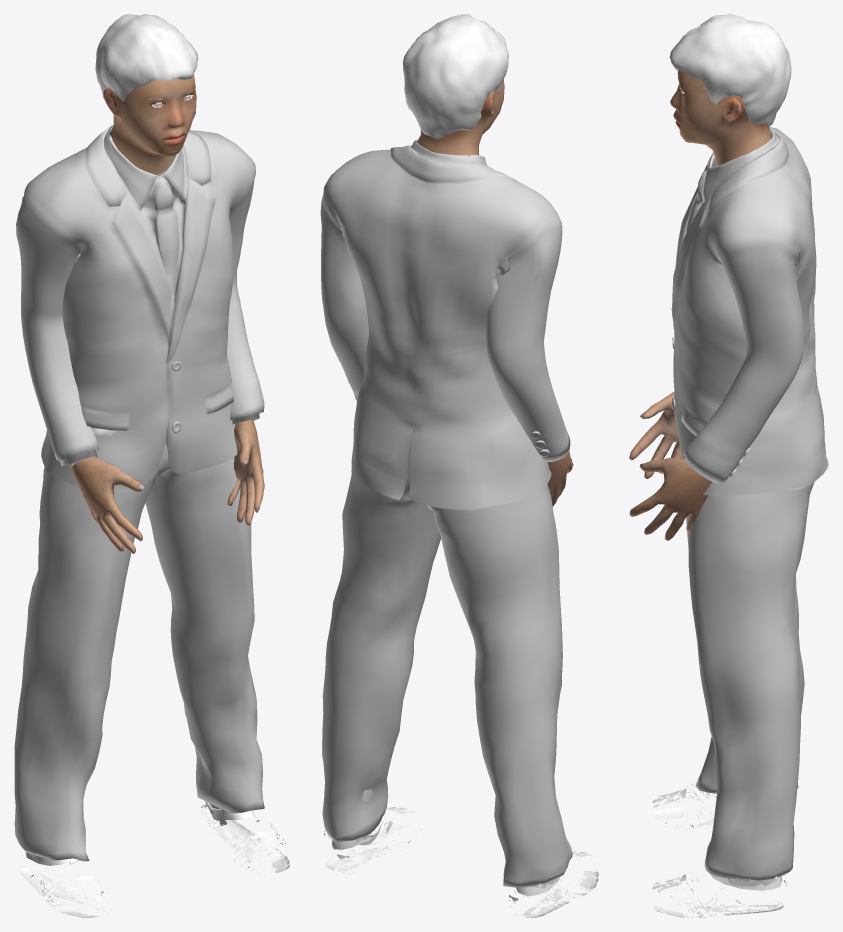
The model's file is ped10.fbx.
The picture shows the model from 3 angles, left to right: view 1: azimuth 30°, elevation 25°; view 2: azimuth 150°, elevation 25°; view 3: azimuth 270°, elevation 25°; orthographic projection.
Parts seen in each view (by area): view 1: Human.male_elegantsuit01, Human.male1591, Human.short02, Human.shoes02; view 2: Human.male_elegantsuit01, Human.short02, Human.shoes02, Human.male1591; view 3: Human.male_elegantsuit01, Human.male1591, Human.short02, Human.shoes02.
Boxes of the visible parts, box(x1,y1,x2,y2) form: Human.male_elegantsuit01: box(14, 125, 264, 861); Human.male1591: box(70, 75, 264, 553); Human.short02: box(95, 14, 198, 101); Human.shoes02: box(20, 756, 289, 917); Human.male_elegantsuit01: box(320, 139, 572, 887); Human.short02: box(403, 14, 508, 139); Human.shoes02: box(324, 789, 598, 917); Human.male1591: box(417, 79, 573, 506); Human.male_elegantsuit01: box(671, 127, 828, 880); Human.male1591: box(629, 69, 770, 540); Human.short02: box(669, 14, 791, 125); Human.shoes02: box(652, 783, 787, 917).
Size of the model in its own units: 48.53 by 168 by 35.94.
